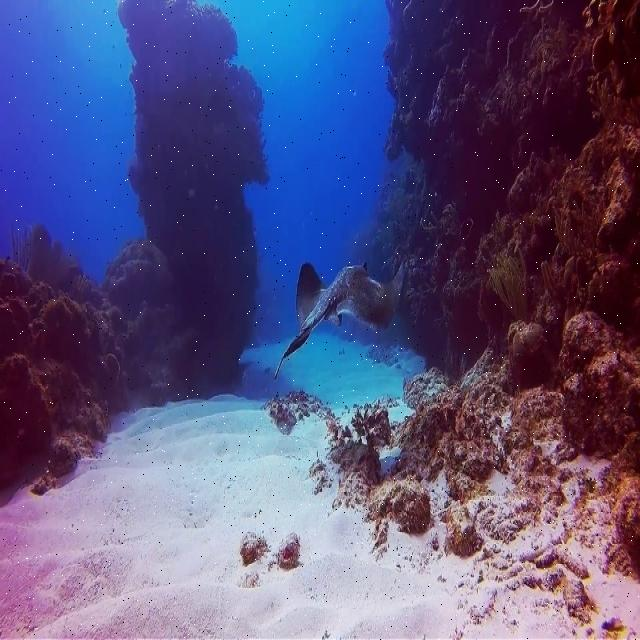aquatic plants: (197, 10, 268, 193), (11, 223, 91, 301), (490, 250, 529, 322)
fish: (274, 257, 406, 378)
sea-floor: (329, 0, 639, 588), (0, 0, 258, 493)
